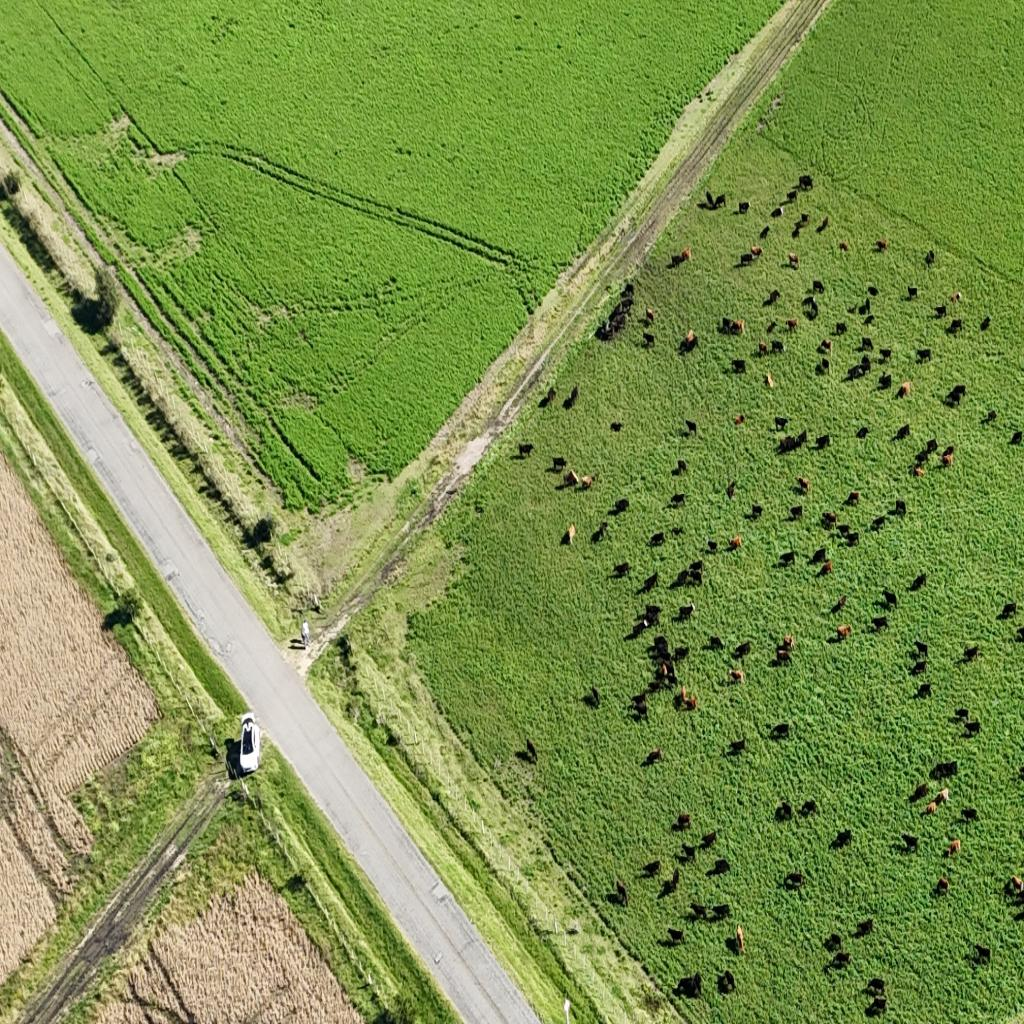cow: (674, 972, 702, 998), (777, 432, 805, 454), (608, 313, 630, 339), (932, 760, 958, 781), (1003, 876, 1022, 902), (866, 994, 886, 1018), (663, 867, 680, 894), (718, 969, 736, 994), (914, 443, 934, 465), (680, 686, 698, 710), (802, 294, 819, 319), (833, 829, 853, 850), (728, 734, 748, 755), (632, 696, 648, 722), (652, 635, 670, 658), (854, 918, 874, 938), (706, 190, 726, 210), (865, 977, 886, 996), (784, 871, 805, 890), (596, 319, 614, 341), (629, 620, 648, 640), (844, 363, 864, 382), (710, 904, 731, 922), (643, 604, 661, 625), (830, 951, 851, 969), (911, 781, 929, 802), (672, 568, 690, 589), (640, 860, 662, 877), (733, 641, 752, 660), (770, 722, 790, 740), (997, 602, 1017, 620), (901, 832, 919, 852), (666, 928, 686, 946), (564, 385, 579, 409), (642, 572, 659, 593), (660, 662, 676, 684), (616, 878, 628, 907), (775, 803, 793, 822), (711, 858, 730, 876), (824, 932, 842, 951), (776, 644, 793, 664), (974, 944, 990, 965), (871, 615, 889, 633), (893, 424, 911, 442), (690, 902, 708, 920), (680, 337, 697, 356), (911, 572, 927, 592), (882, 589, 898, 609), (540, 388, 556, 408), (800, 800, 818, 817), (963, 644, 980, 662), (644, 748, 662, 765), (811, 547, 828, 565), (911, 659, 928, 677), (778, 550, 795, 568), (871, 514, 888, 532), (678, 603, 694, 622), (612, 562, 631, 578), (593, 521, 607, 542), (701, 831, 718, 848), (948, 384, 966, 400), (964, 718, 980, 736), (613, 497, 629, 515), (551, 456, 567, 474), (913, 638, 929, 656), (764, 289, 780, 307), (736, 922, 745, 954), (526, 738, 537, 763), (961, 807, 978, 823), (953, 706, 970, 722), (845, 530, 861, 547), (681, 843, 697, 860), (674, 645, 689, 663), (935, 787, 950, 805), (798, 174, 814, 190), (518, 442, 534, 458), (815, 433, 831, 449), (729, 668, 745, 684), (690, 558, 704, 576), (947, 838, 961, 856), (916, 348, 932, 363), (917, 682, 932, 698), (670, 492, 686, 507), (673, 460, 688, 476), (822, 512, 838, 527), (590, 683, 600, 707), (677, 812, 691, 829), (790, 504, 804, 521), (937, 876, 950, 894), (650, 532, 665, 547), (739, 252, 754, 267), (837, 624, 852, 639), (949, 318, 963, 334), (775, 416, 789, 432), (878, 374, 892, 390), (708, 636, 724, 650), (620, 282, 634, 298), (580, 474, 594, 490), (894, 499, 906, 517), (732, 359, 746, 374), (982, 409, 997, 423), (750, 504, 764, 519), (833, 322, 848, 336), (642, 332, 655, 348), (771, 340, 784, 356), (816, 217, 829, 233), (837, 524, 853, 537), (820, 560, 833, 576), (858, 300, 871, 316), (721, 317, 733, 334), (835, 595, 847, 612), (567, 469, 579, 486), (899, 381, 911, 398), (567, 523, 576, 545), (934, 304, 947, 319), (812, 279, 825, 294), (732, 319, 745, 334), (942, 446, 954, 462), (926, 438, 938, 454), (880, 348, 893, 362), (786, 190, 799, 204), (856, 426, 869, 440), (729, 535, 742, 549), (759, 225, 771, 240), (727, 481, 737, 499), (862, 336, 874, 351), (926, 800, 938, 815), (1016, 874, 1024, 896), (788, 252, 799, 268), (738, 201, 750, 215), (706, 540, 718, 554), (848, 491, 860, 505), (798, 478, 810, 492), (820, 339, 832, 353), (864, 314, 876, 328), (671, 524, 685, 536), (980, 316, 991, 331), (765, 372, 774, 390), (925, 250, 935, 266), (820, 358, 830, 374), (685, 329, 695, 345), (771, 207, 784, 219), (950, 291, 962, 304), (686, 420, 697, 434), (783, 634, 794, 648), (792, 224, 802, 239), (734, 414, 746, 426), (876, 240, 888, 252), (786, 318, 798, 330), (610, 421, 623, 432), (765, 321, 776, 334), (907, 286, 917, 300), (759, 341, 769, 355), (867, 286, 879, 297), (646, 307, 654, 323), (800, 213, 810, 225), (914, 466, 924, 478), (752, 246, 762, 258), (683, 247, 691, 261), (474, 503, 484, 514), (848, 302, 858, 313), (839, 242, 849, 252), (661, 663, 668, 677), (1018, 626, 1024, 642)
